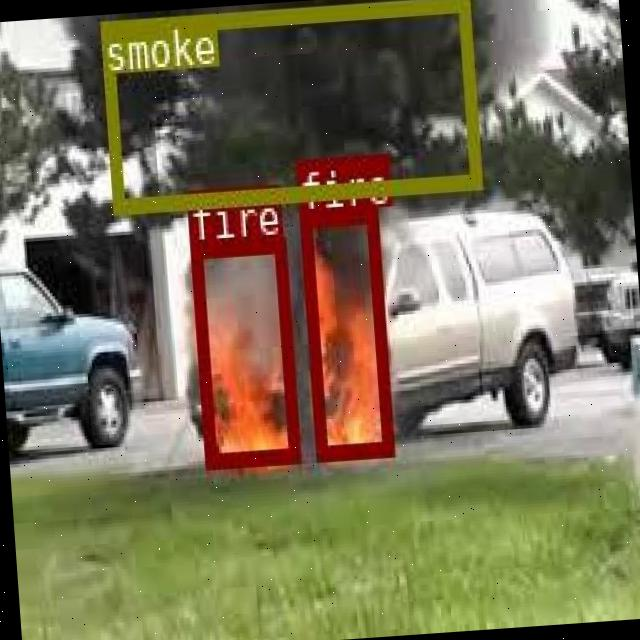fire: (189, 235, 299, 468), (298, 205, 392, 459)
smoke: (98, 0, 479, 209)
